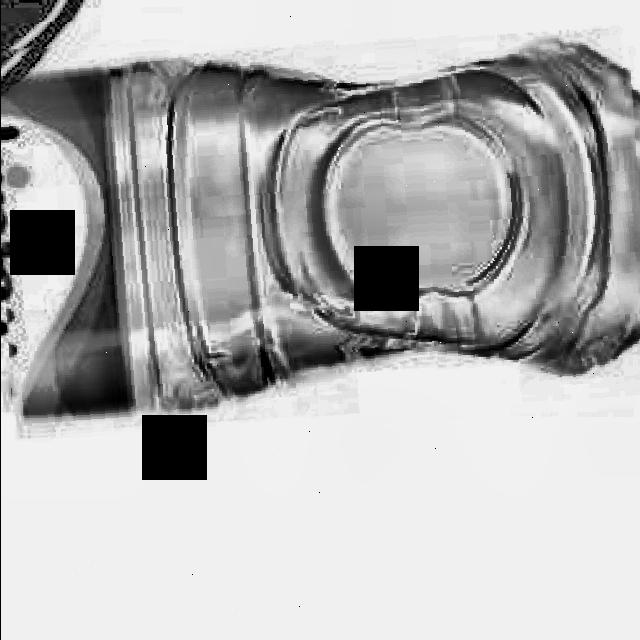bottle: (0, 22, 640, 440)
